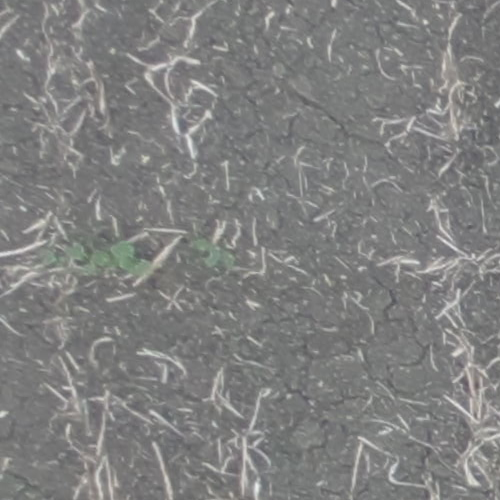plant: (113, 240, 153, 283), (189, 235, 233, 271)
